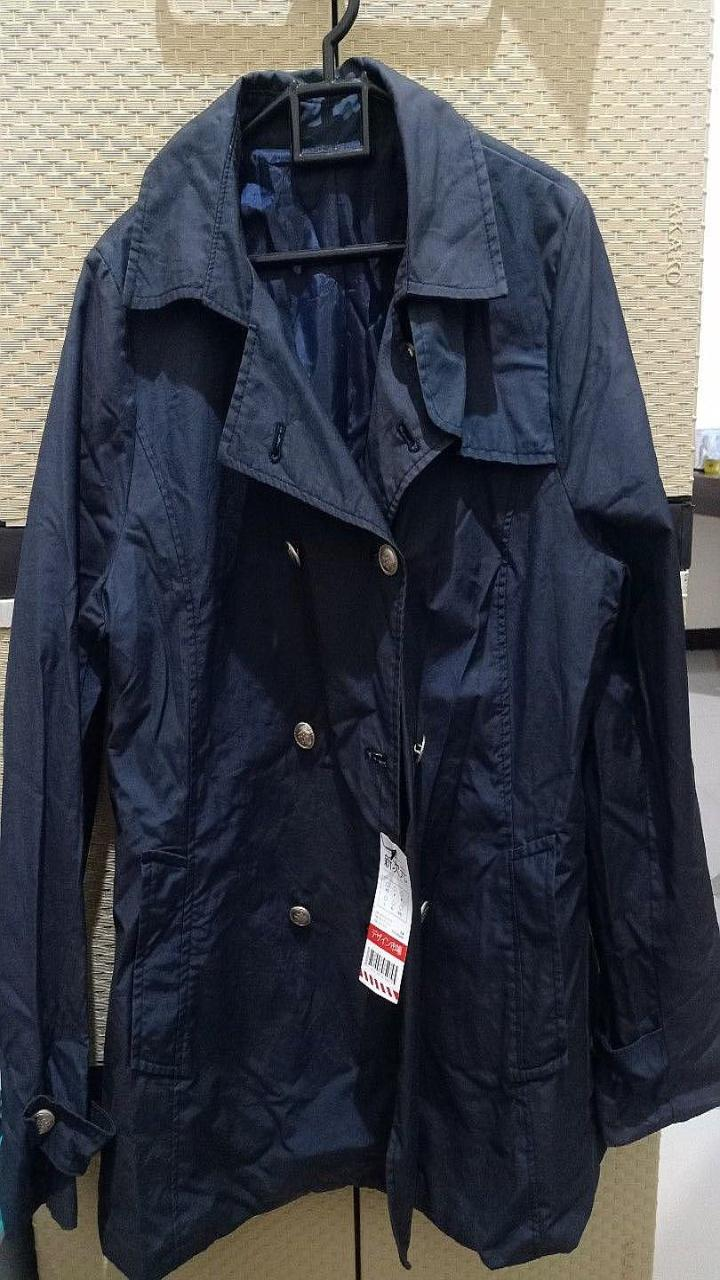Coat: (0, 56, 719, 1279)
